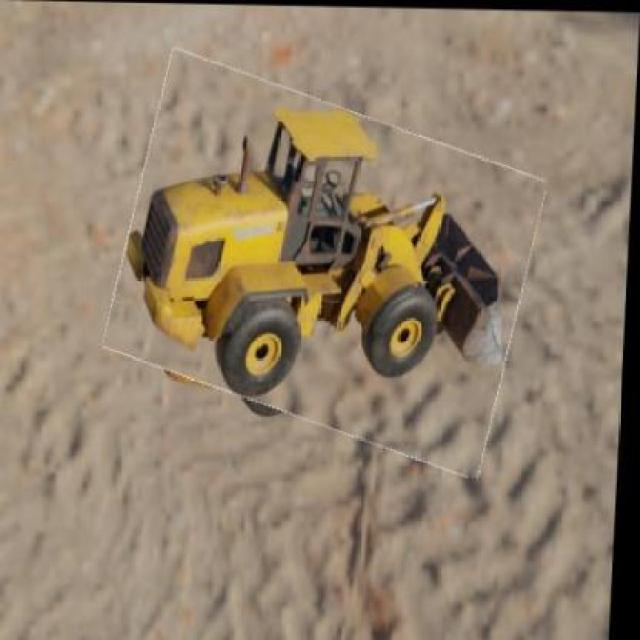buldozerpayloadergrader: (124, 102, 507, 398)
